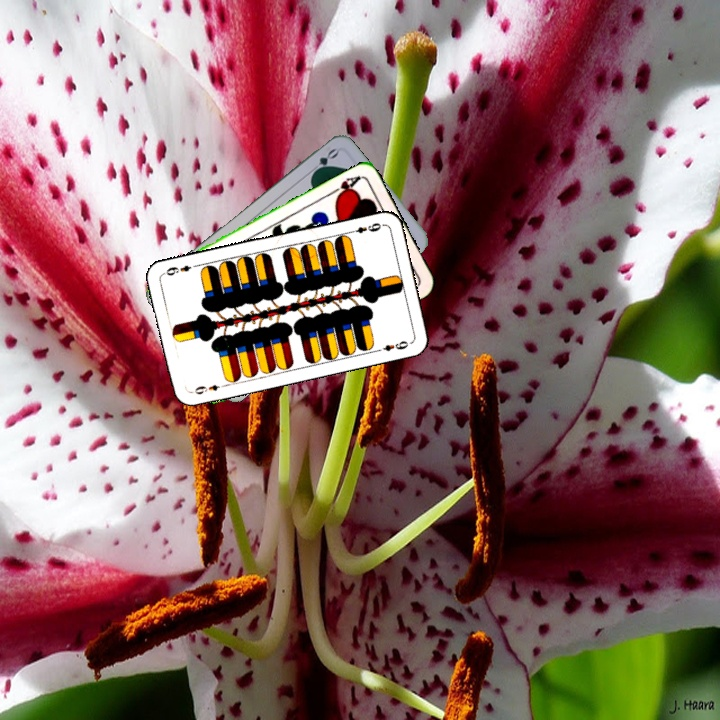E9: (345, 218, 384, 236), (188, 380, 228, 397)
GO: (305, 144, 341, 178)
HA: (325, 172, 363, 201)
